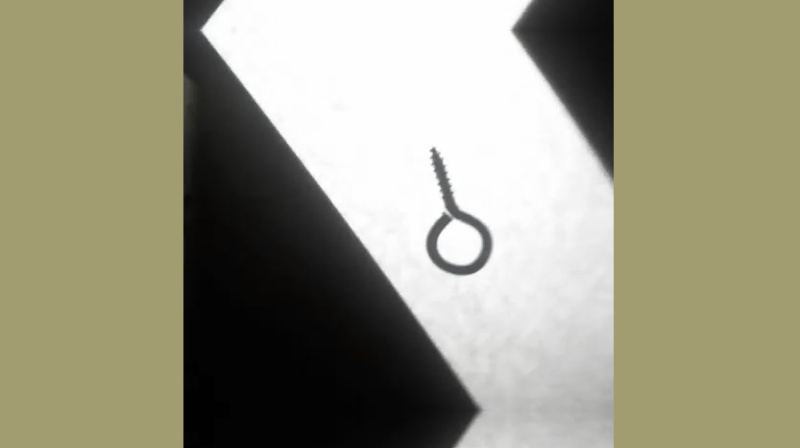O001: (422, 143, 495, 278)
